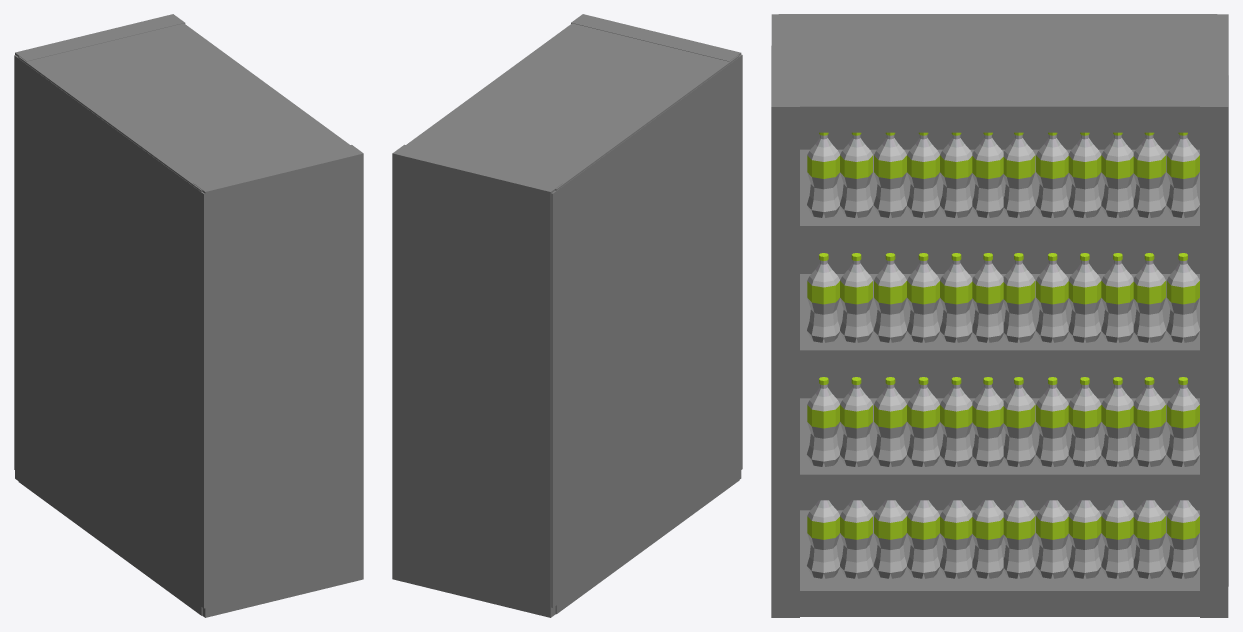
File: sprite_shelf.gltf
3 views of the same model, side by side, from view 1: azimuth 30°, elevation 25°; view 2: azimuth 150°, elevation 25°; view 3: azimuth 270°, elevation 25° (orthographic). The views are drawn at different scales.
Parts seen in each view (by area): view 1: Cube.019_Cube.001; view 2: Cube.019_Cube.001; view 3: Cube.019_Cube.001.
Part boxes in pixels (x1,y1,x2,y2): Cube.019_Cube.001: (14,14,363,617); Cube.019_Cube.001: (392,14,742,617); Cube.019_Cube.001: (771,14,1228,617).
Size of the model in its own units: 4.03 by 10.28 by 8.34.
4 materials, 1 textured.
